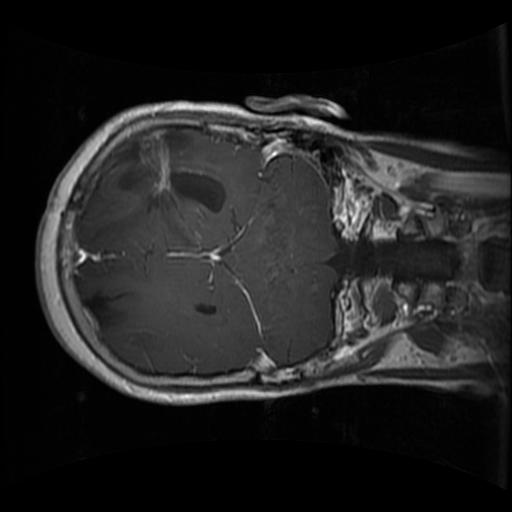glioma: (96, 126, 228, 226)
